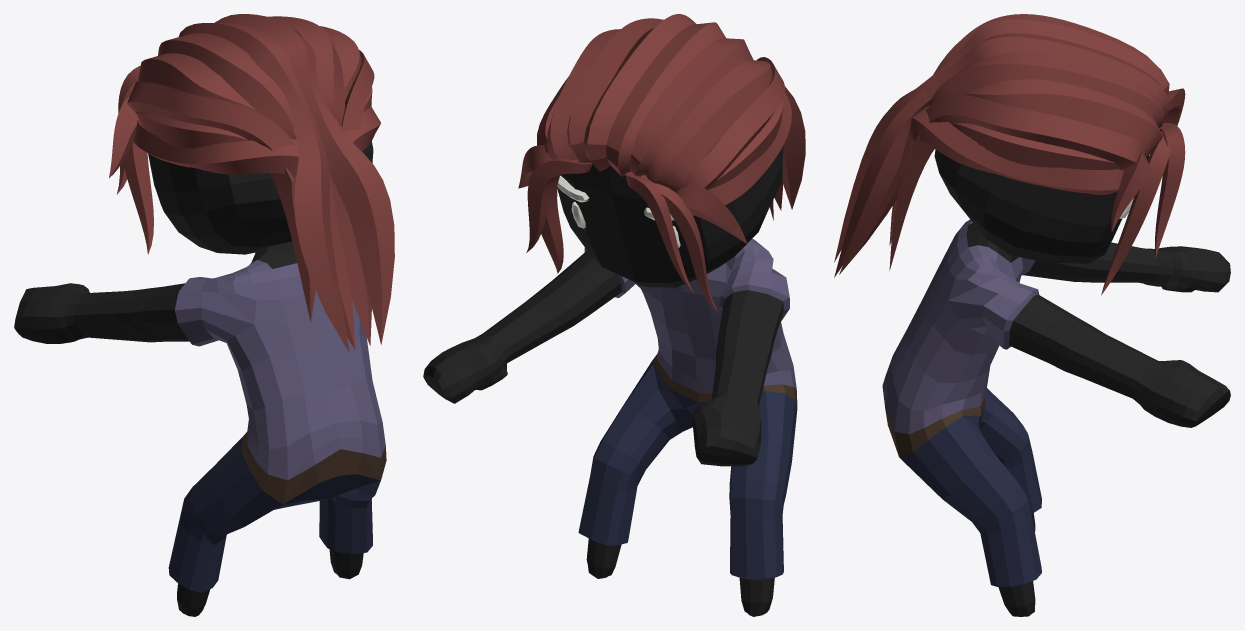
File: Pilot_Loudena.fbx
The picture shows the model from 3 angles, left to right: view 1: azimuth 30°, elevation 25°; view 2: azimuth 150°, elevation 25°; view 3: azimuth 270°, elevation 25°; orthographic projection. The views are drawn at different scales.
Visible parts, largest first — view 1: Pilot_Loudena; view 2: Pilot_Loudena; view 3: Pilot_Loudena.
Part boxes in pixels (bbox=[...]): Pilot_Loudena: bbox=[14, 14, 394, 616]; Pilot_Loudena: bbox=[423, 14, 805, 616]; Pilot_Loudena: bbox=[834, 14, 1230, 616].
Bounding box in the file's own units: 0.7615 × 1.24 × 0.8092.
